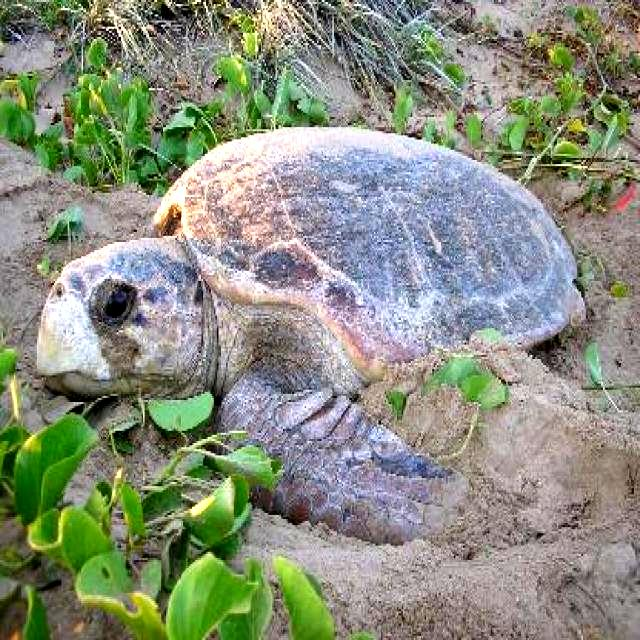Sea turtle: (36, 122, 609, 550)
